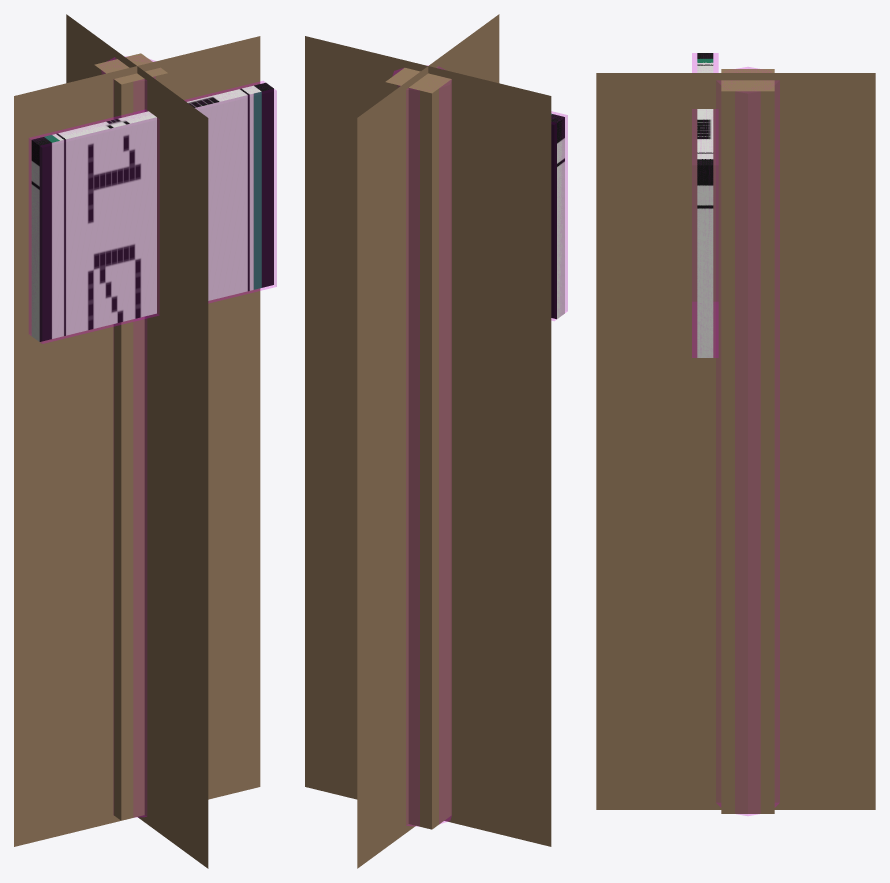
Rendered from lapsign_10.dae.
3 views of the same model, side by side, from view 1: azimuth 30°, elevation 25°; view 2: azimuth 150°, elevation 25°; view 3: azimuth 270°, elevation 25° (orthographic).
Parts seen in each view (by area): view 1: lapsign_10_a50, lapsign_10_a800, Colmesh_sign-1, lapsign_10_a200, Colmesh_post-1; view 2: lapsign_10_a50, lapsign_10_a800, Colmesh_post-1, lapsign_10_a200, Colmesh_sign-1; view 3: lapsign_10_a50, lapsign_10_a800, Colmesh_post-1, Colmesh_sign-1.
Boxes of the visible parts, x1,y1,x2,y2 form: lapsign_10_a50: (14,14,260,868); lapsign_10_a800: (31,53,273,820); Colmesh_sign-1: (29,81,276,343); lapsign_10_a200: (113,57,166,816); Colmesh_post-1: (102,56,155,817); lapsign_10_a50: (305,14,551,868); lapsign_10_a800: (385,68,564,829); Colmesh_post-1: (393,65,451,826); lapsign_10_a200: (408,69,451,827); Colmesh_sign-1: (551,111,567,320); lapsign_10_a50: (596,73,875,809); lapsign_10_a800: (697,53,774,813); Colmesh_post-1: (716,67,779,815); Colmesh_sign-1: (692,53,718,357).
Size of the model in its own units: 0.525 by 0.525 by 1.53.
Materials: 3 (1 with a texture image).
